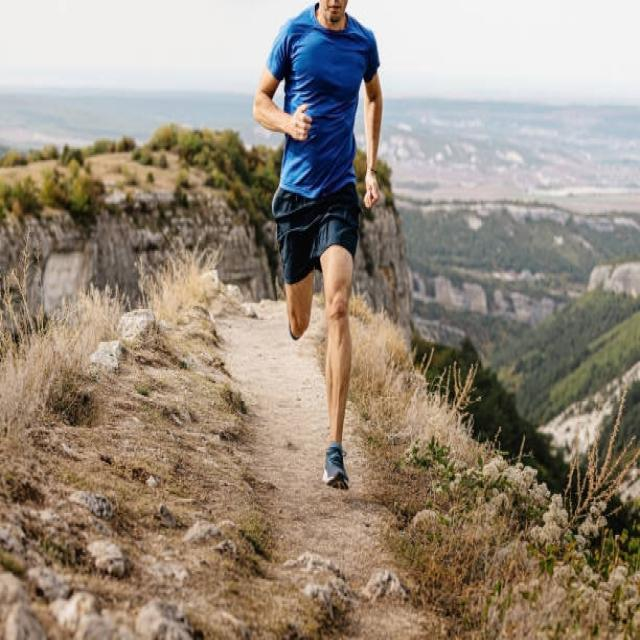running: (251, 1, 386, 490)
